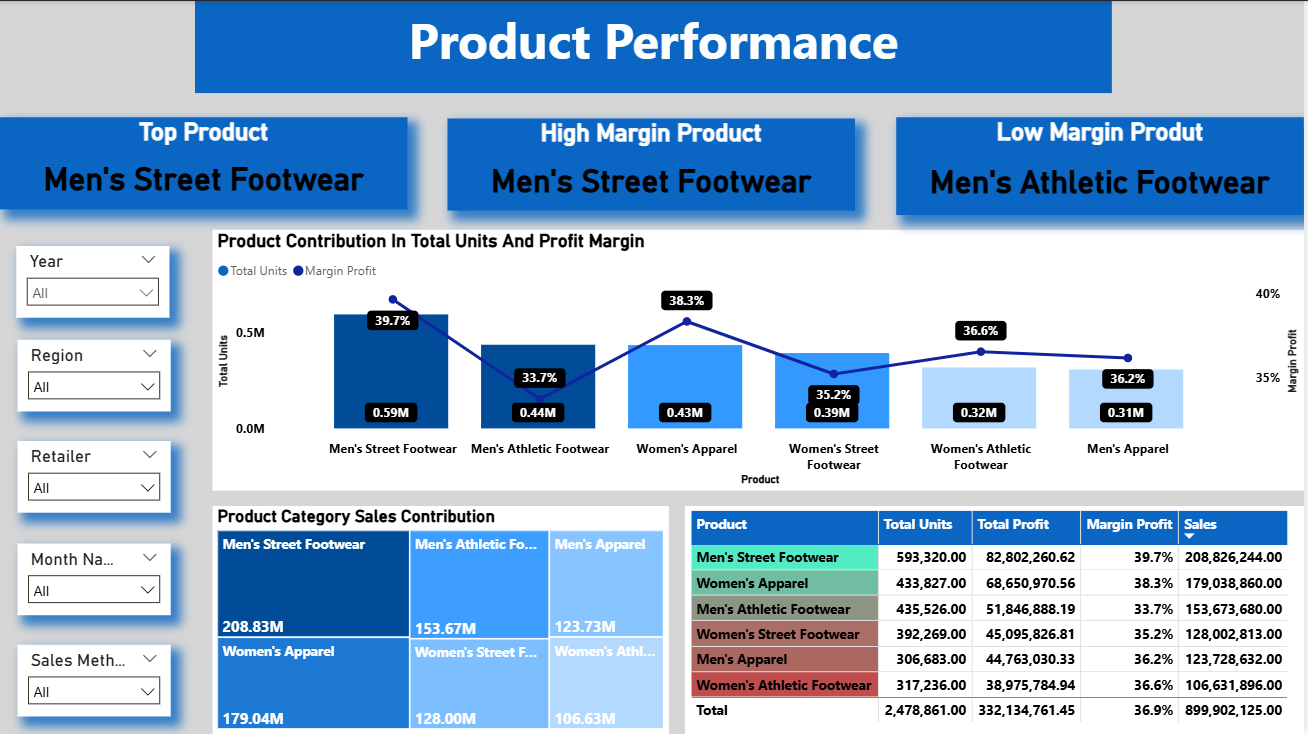

Layout of this report page (visuals, bound fields, positions):
{"tool":"powerbi","page":{"name":"Product Performance","canvas":[1280,720],"ordinal":4},"visuals":[{"type":"treemap","title":"Product Category Sales Contribution","fields":{"Group":["Sales.Product"],"Values":["Sales.Sales"]},"box":[208,496,448,224],"z":2000},{"type":"lineClusteredColumnComboChart","title":" Product Contribution In Total Units And Profit Margin","fields":{"Category":["Sales.Product"],"Y":["Sales.Sold Units"],"Y2":["Sales.Margin Profit"]},"box":[208,224,1072,256],"z":3000},{"type":"tableEx","fields":{"Values":["Sales.Product","Sales.Sold Units","Sales.Total Profit","Sales.Margin Profit","Sales.Sales"]},"box":[672,496,608,224],"z":4000},{"type":"slicer","fields":{"Values":["Sales.Region"]},"box":[16.9,332.4,150,70],"z":5000},{"type":"slicer","fields":{"Values":["Sales.Sales Method"]},"box":[16.9,632.4,150,70],"z":6000},{"type":"slicer","fields":{"Values":["Retailers.Retailer"]},"box":[16.9,432.4,150,70],"z":7000},{"type":"slicer","fields":{"Values":["Dates.Month Name"]},"box":[16.9,532.4,150,70],"z":8000},{"type":"card","title":"Top Product","fields":{"Values":["Sales.Top Product"]},"box":[0,113.9,400,90],"z":9000},{"type":"card","title":"High Margin Product","fields":{"Values":["Sales.High Margin Product"]},"box":[439.8,115.2,400,90],"z":10000},{"type":"card","title":"Low Margin Produt","fields":{"Values":["Sales.Low Margin Product"]},"box":[880,113.9,400,96],"z":11000},{"type":"textbox","box":[192,0,900,90],"z":11001},{"type":"slicer","fields":{"Values":["Dates.Year"]},"box":[16,240,150,70],"z":11002}]}

Visuals, with their boxes in screenshot pixels (x1, y1, x2, y2), scaled from the page's 1280x720 canvas onto the 1308x734 screenshot:
"Product Category Sales Contribution" treemap: x1=213, y1=506, x2=670, y2=733
" Product Contribution In Total Units And Profit Margin" lineClusteredColumnComboChart: x1=213, y1=228, x2=1307, y2=489
tableEx - Sales.Product x Sales.Sold Units: x1=687, y1=506, x2=1307, y2=733
slicer - Sales.Region: x1=17, y1=339, x2=171, y2=410
slicer - Sales.Sales Method: x1=17, y1=645, x2=171, y2=716
slicer - Retailers.Retailer: x1=17, y1=441, x2=171, y2=512
slicer - Dates.Month Name: x1=17, y1=543, x2=171, y2=614
"Top Product" card: x1=0, y1=116, x2=409, y2=208
"High Margin Product" card: x1=449, y1=117, x2=858, y2=209
"Low Margin Produt" card: x1=899, y1=116, x2=1307, y2=214
textbox: x1=196, y1=0, x2=1116, y2=92
slicer - Dates.Year: x1=16, y1=245, x2=170, y2=316
